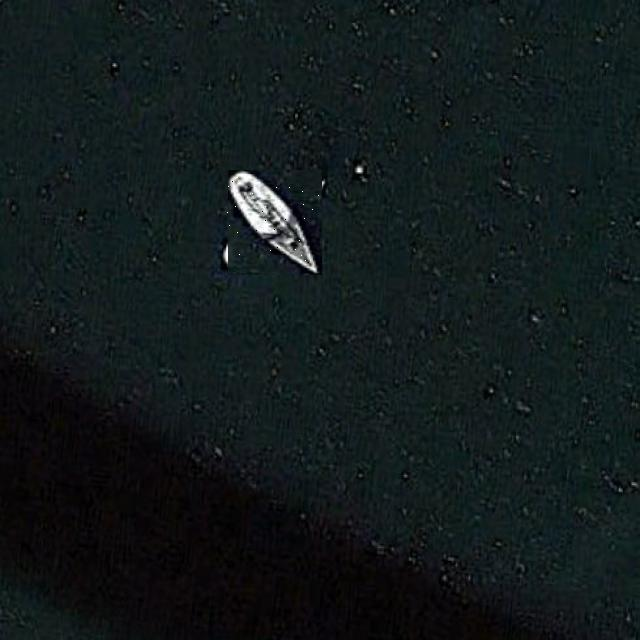boat: (225, 173, 324, 272)
